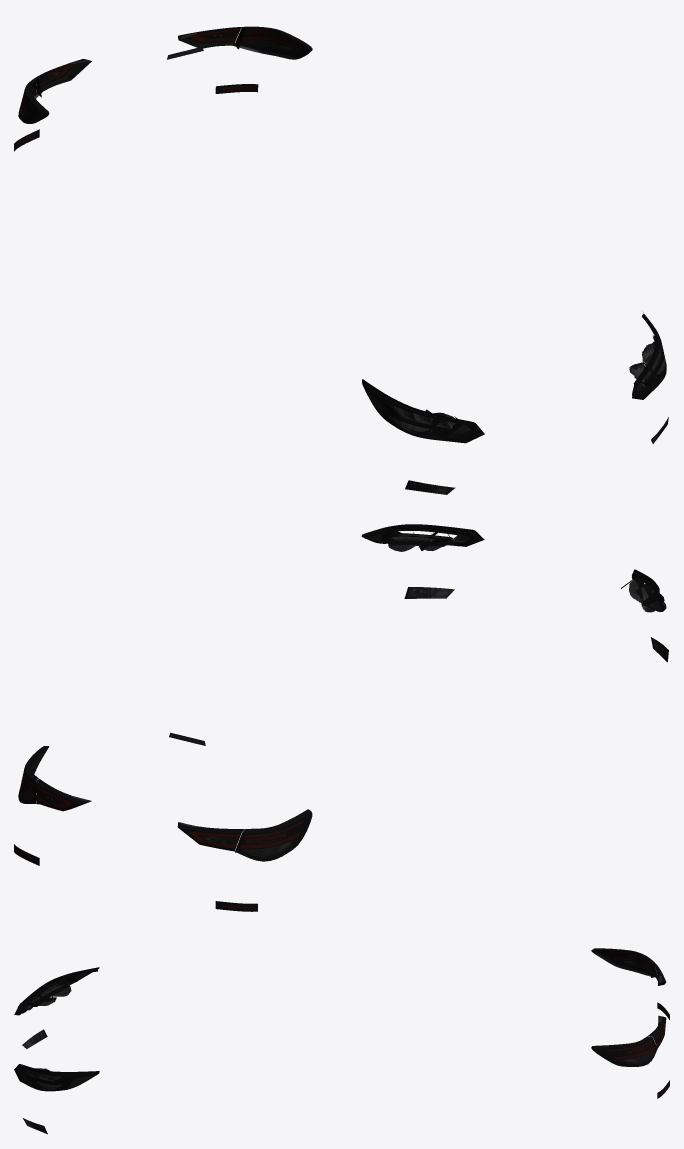
Rendered from luz_off.glb.
3 views of the same model, one above another, from view 1: azimuth 30°, elevation 25°; view 2: azimuth 150°, elevation 25°; view 3: azimuth 270°, elevation 25° (orthographic). The views are drawn at different scales.
Parts seen in each view (by area): view 1: wudeng, weideng_c, polySurface18, polySurface461; view 2: wudeng, weideng_c, sentra14_model_21:light:Sylphy_head_light_02:sentra14_model_; view 3: wudeng, polySurface904, polySurface904.001, weideng_c, polySurface890.001.
Part boxes in pixels (x1,y1,x2,y2): wudeng: [14, 26, 668, 494]; weideng_c: [36, 27, 244, 92]; polySurface18: [362, 379, 484, 443]; polySurface461: [362, 382, 479, 440]; wudeng: [14, 587, 668, 911]; weideng_c: [36, 779, 244, 851]; sentra14_model_21:light:Sylphy_head_light_02:sentra14_model_: [361, 524, 484, 546]; wudeng: [22, 948, 669, 1134]; polySurface904: [14, 967, 99, 1015]; polySurface904.001: [14, 1064, 99, 1091]; weideng_c: [648, 959, 666, 1048]; polySurface890.001: [16, 1066, 97, 1089].
Size of the model in its own units: 1.8 by 0.9285 by 4.74.
Materials: 5 (1 with a texture image).
